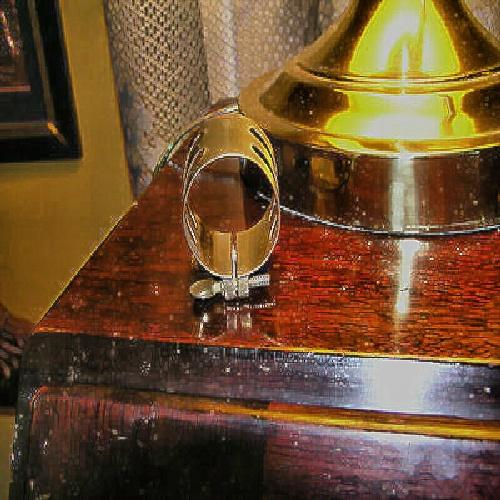table: (83, 93, 495, 447)
